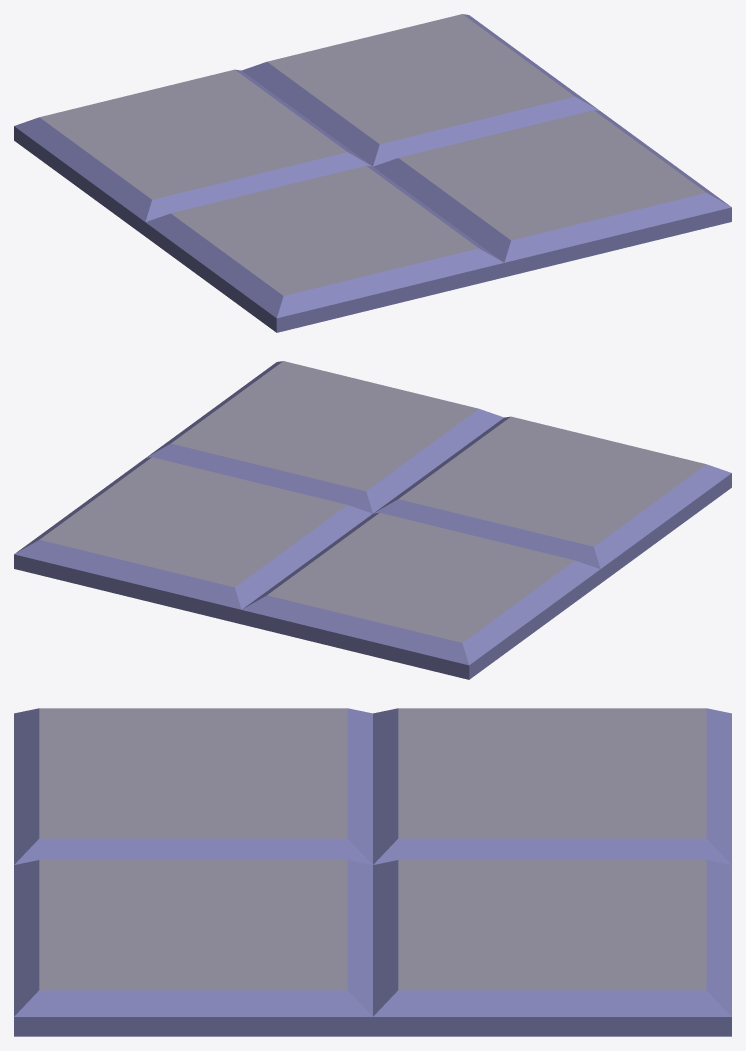
File: TileQuaded.fbx
The picture shows the model from 3 angles, top to bottom: view 1: azimuth 30°, elevation 25°; view 2: azimuth 150°, elevation 25°; view 3: azimuth 270°, elevation 25°; orthographic projection. The views are drawn at different scales.
Visible parts, largest first — view 1: TileQuaded; view 2: TileQuaded; view 3: TileQuaded.
Boxes of the visible parts, left/top/right/bottom form: TileQuaded: left=14, top=14, right=731, bottom=332; TileQuaded: left=14, top=361, right=731, bottom=679; TileQuaded: left=14, top=708, right=731, bottom=1036.
Bounding box in the file's own units: 200 × 11.01 × 200.
